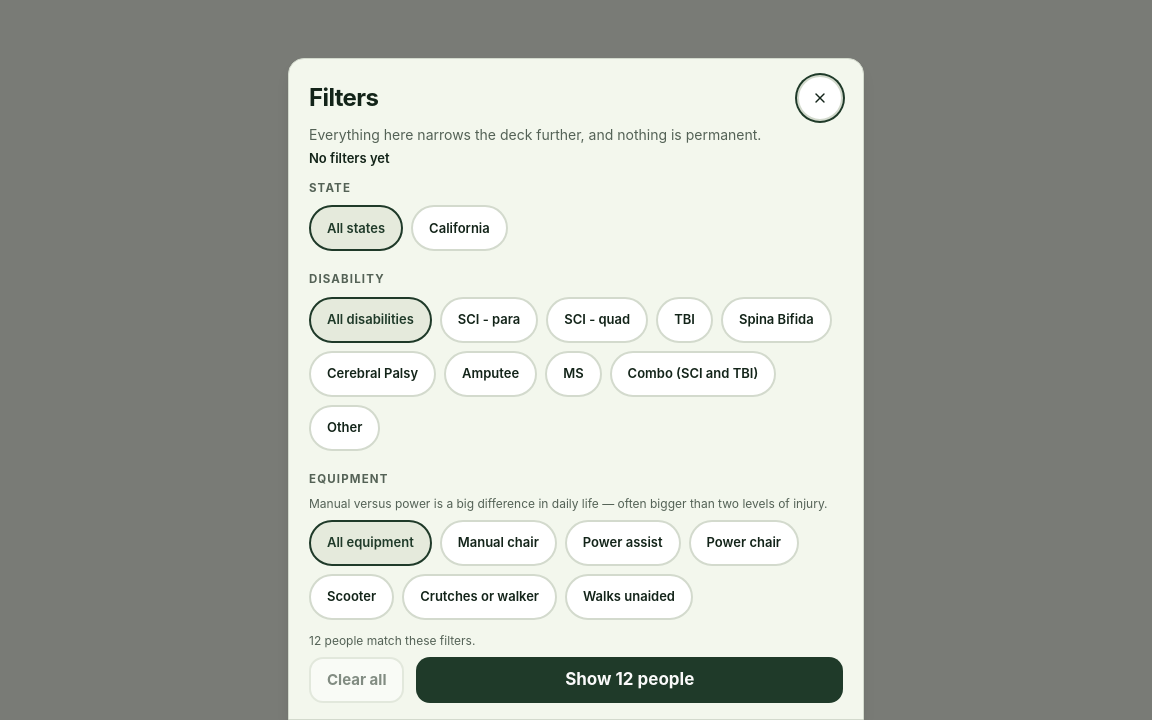
it: DiscoverFilterSheet › disables Clear all until something is actually narrowing
Check: the button "Clear all" is disabled, box [309,657,404,703]
What coordinates should you click on to do the following:
click the button "Manual chair"
I would click on:
 (498, 543)
Its box is [440,520,557,566].
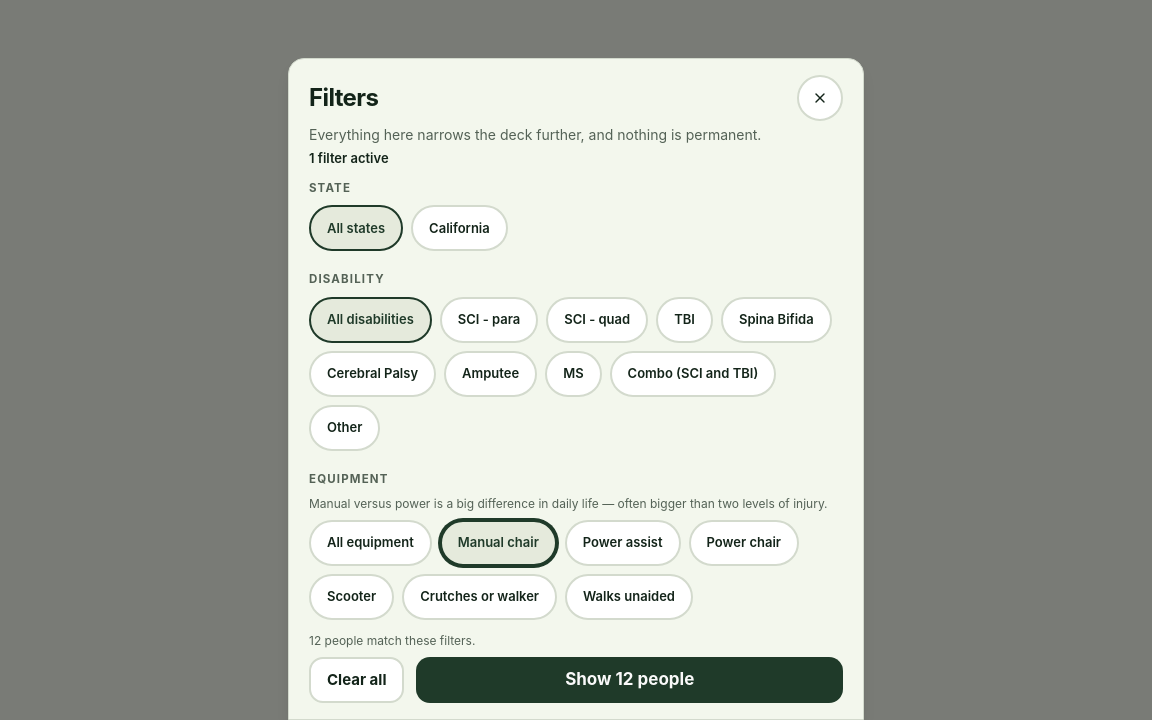
Check: the button "Clear all" is enabled, box [309,657,404,703]
